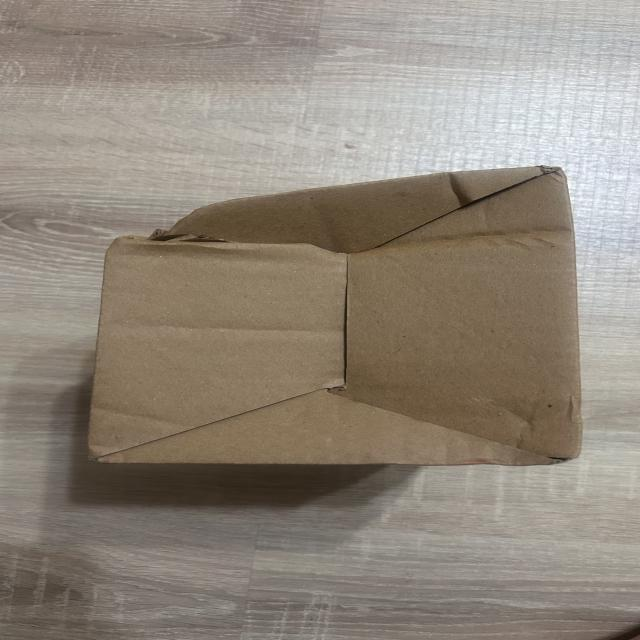damaged: (79, 153, 593, 467), (99, 187, 271, 262)
